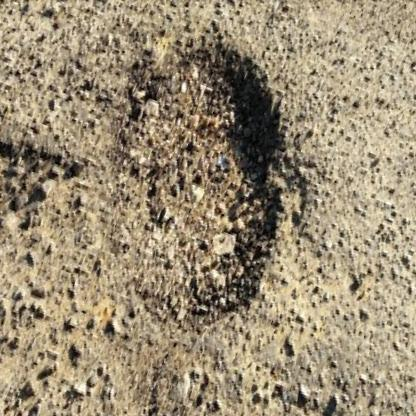pothole: (49, 10, 345, 353), (0, 112, 82, 259)
